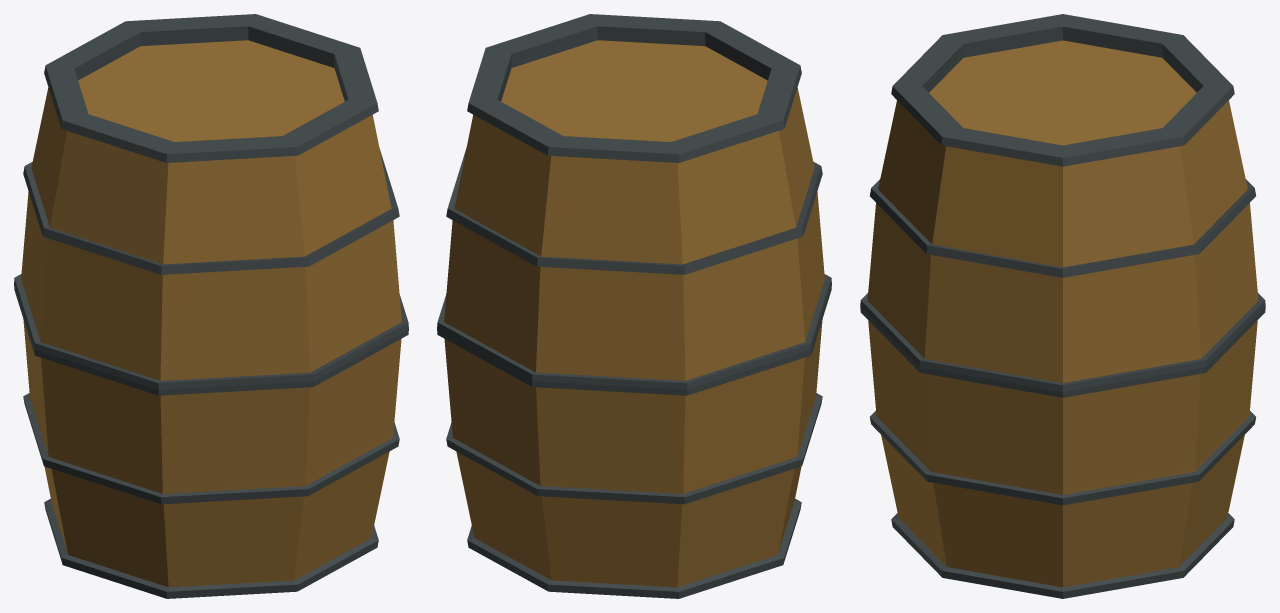
Rendered from Barrel (1).fbx.
The picture shows the model from 3 angles, left to right: view 1: azimuth 30°, elevation 25°; view 2: azimuth 150°, elevation 25°; view 3: azimuth 270°, elevation 25°; orthographic projection.
Parts seen in each view (by area): view 1: Barrel; view 2: Barrel; view 3: Barrel.
Boxes of the visible parts, box(x1,y1,x2,y2) form: Barrel: box(14, 14, 408, 598); Barrel: box(437, 14, 831, 598); Barrel: box(860, 14, 1265, 598).
Bounding box in the file's own units: 75 × 90 × 75.
